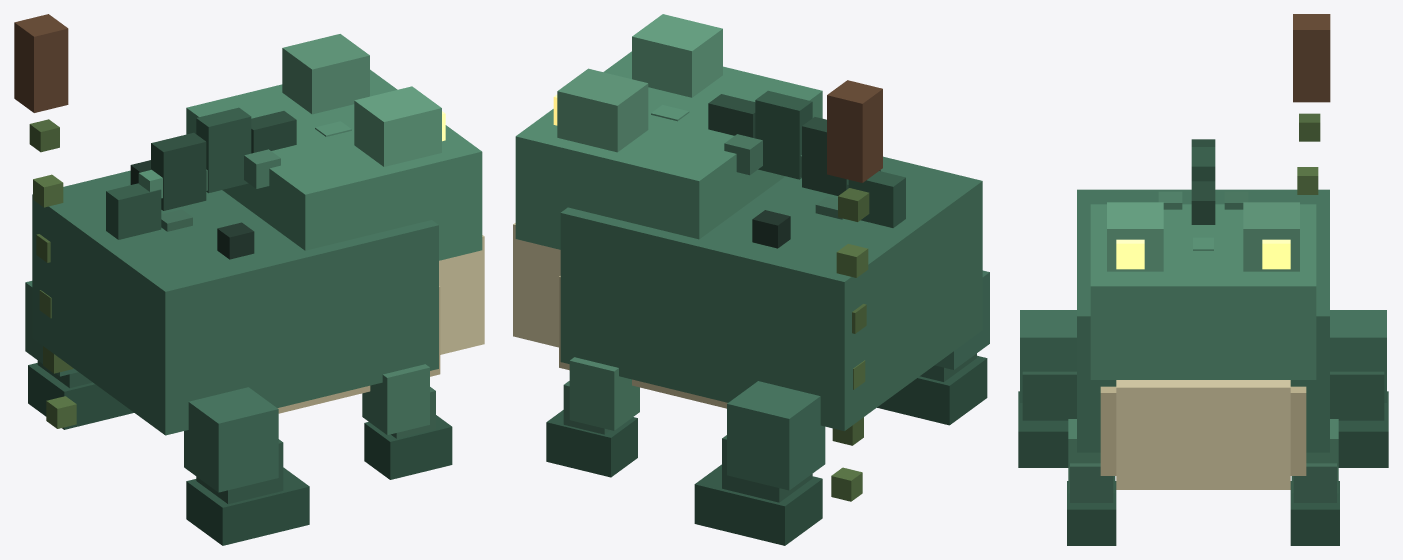
Rendered from mill-canal-frog.glb.
3 views of the same model, side by side, from view 1: azimuth 30°, elevation 25°; view 2: azimuth 150°, elevation 25°; view 3: azimuth 270°, elevation 25° (orthographic). The views are drawn at different scales.
Visible parts, largest first — view 1: Body, Head, HindLegs, EyeDomes, Warts, ForeLegs, ReedHead, VocalSac, CanalReed, Scales, Trim, Belly; view 2: Body, Head, HindLegs, EyeDomes, Warts, ForeLegs, ReedHead, VocalSac, CanalReed, Scales, Belly, Trim; view 3: Head, VocalSac, HindLegs, Body, ForeLegs, EyeDomes, ReedHead, Belly, Warts, Eyes, CanalReed, Scales.
Boxes of the visible parts, x1=… form: Body: x1=32, y1=170, x2=438, y2=435; Head: x1=186, y1=69, x2=482, y2=260; HindLegs: x1=25, y1=281, x2=309, y2=545; EyeDomes: x1=282, y1=34, x2=441, y2=166; Warts: x1=106, y1=107, x2=296, y2=239; ForeLegs: x1=362, y1=364, x2=452, y2=479; ReedHead: x1=14, y1=14, x2=68, y2=112; VocalSac: x1=439, y1=235, x2=484, y2=354; CanalReed: x1=29, y1=119, x2=76, y2=428; Scales: x1=130, y1=149, x2=280, y2=259; Trim: x1=138, y1=121, x2=351, y2=231; Belly: x1=277, y1=286, x2=440, y2=413; Body: x1=560, y1=156, x2=982, y2=431; Head: x1=515, y1=51, x2=822, y2=249; HindLegs: x1=694, y1=270, x2=989, y2=545; EyeDomes: x1=557, y1=14, x2=722, y2=152; Warts: x1=708, y1=90, x2=905, y2=227; ForeLegs: x1=546, y1=357, x2=639, y2=477; ReedHead: x1=827, y1=80, x2=882, y2=182; VocalSac: x1=513, y1=223, x2=560, y2=347; CanalReed: x1=831, y1=188, x2=869, y2=501; Scales: x1=724, y1=134, x2=880, y2=248; Belly: x1=559, y1=276, x2=727, y2=408; Trim: x1=651, y1=105, x2=848, y2=219; Head: x1=1090, y1=204, x2=1316, y2=379; VocalSac: x1=1116, y1=380, x2=1290, y2=489; HindLegs: x1=1018, y1=310, x2=1388, y2=467; Body: x1=1077, y1=189, x2=1329, y2=452; ForeLegs: x1=1067, y1=419, x2=1339, y2=545; EyeDomes: x1=1107, y1=202, x2=1299, y2=271; ReedHead: x1=1293, y1=14, x2=1330, y2=102; Belly: x1=1100, y1=386, x2=1306, y2=475; Warts: x1=1191, y1=139, x2=1215, y2=224; Eyes: x1=1116, y1=239, x2=1290, y2=269; CanalReed: x1=1297, y1=113, x2=1320, y2=194; Scales: x1=1158, y1=191, x2=1248, y2=209.
Bounding box in the file's own units: 3.34 × 3.69 × 3.15.
